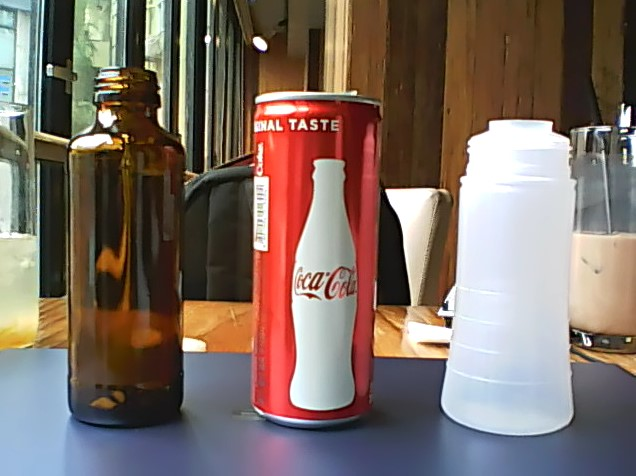Can: (243, 82, 387, 436)
Glass: (62, 61, 191, 433)
Plastic: (433, 110, 581, 442)
